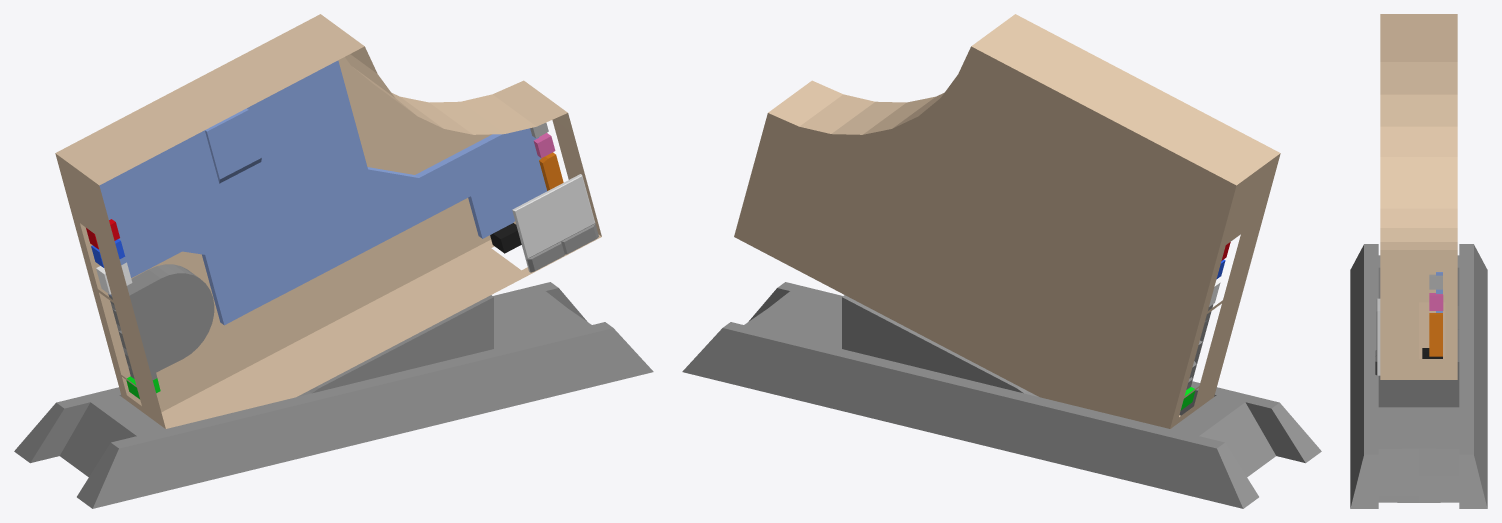
Rendered from media-pc-model-2.fbx.
3 views of the same model, side by side, from view 1: azimuth 30°, elevation 25°; view 2: azimuth 150°, elevation 25°; view 3: azimuth 270°, elevation 25° (orthographic). The views are drawn at different scales.
Parts seen in each view (by area): view 1: Case, Circuit Board, Base, Mouseppad; view 2: Case, Base, Circuit Board; view 3: Case, Base, Circuit Board, Mouseppad.
Part boxes in pixels (x1,y1,x2,y2): Case: [55, 14, 601, 428]; Circuit Board: [86, 60, 563, 399]; Base: [14, 282, 653, 508]; Mouseppad: [512, 174, 598, 272]; Case: [734, 14, 1280, 428]; Base: [682, 282, 1321, 508]; Circuit Board: [1180, 242, 1230, 410]; Case: [1380, 14, 1457, 379]; Base: [1350, 244, 1487, 508]; Circuit Board: [1422, 272, 1443, 358]; Mouseppad: [1375, 298, 1380, 375].
Size of the model in its own units: 396 by 256 by 96.
